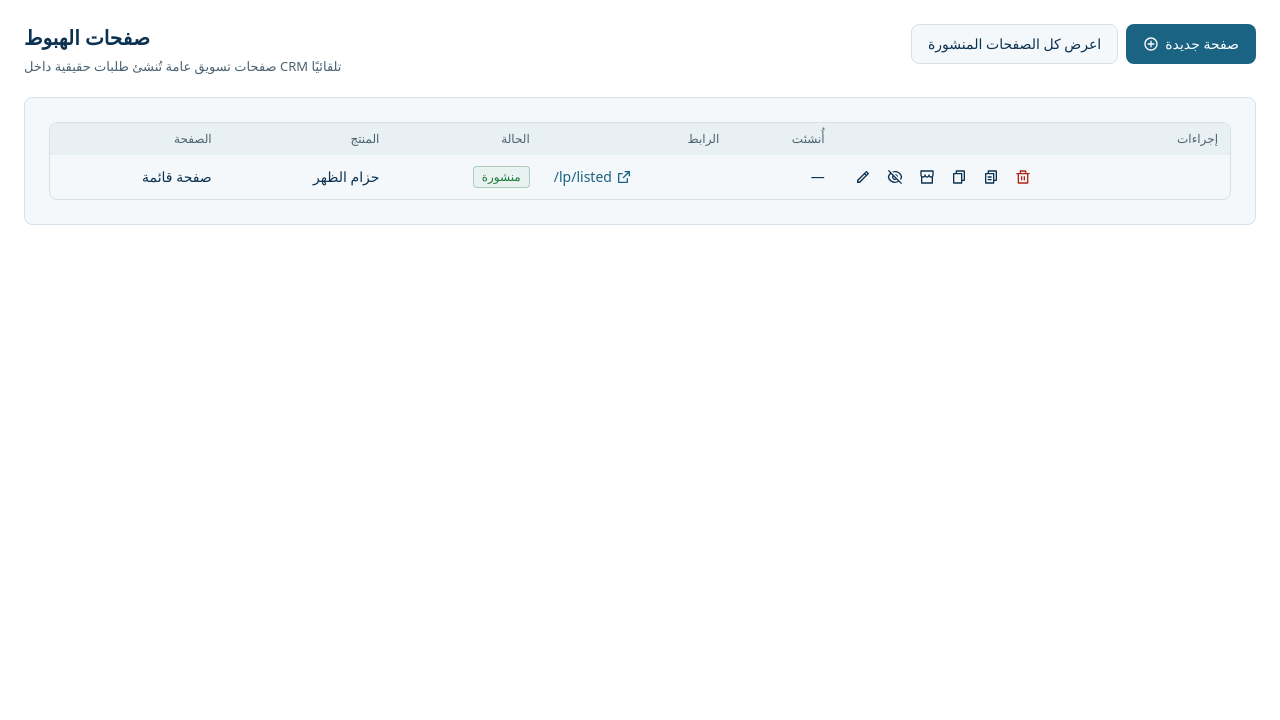
Scenario: the two starting points › are both named without opening a menu
Click the button "صفحة جديدة" at (1191, 44), box [1126, 24, 1256, 64]
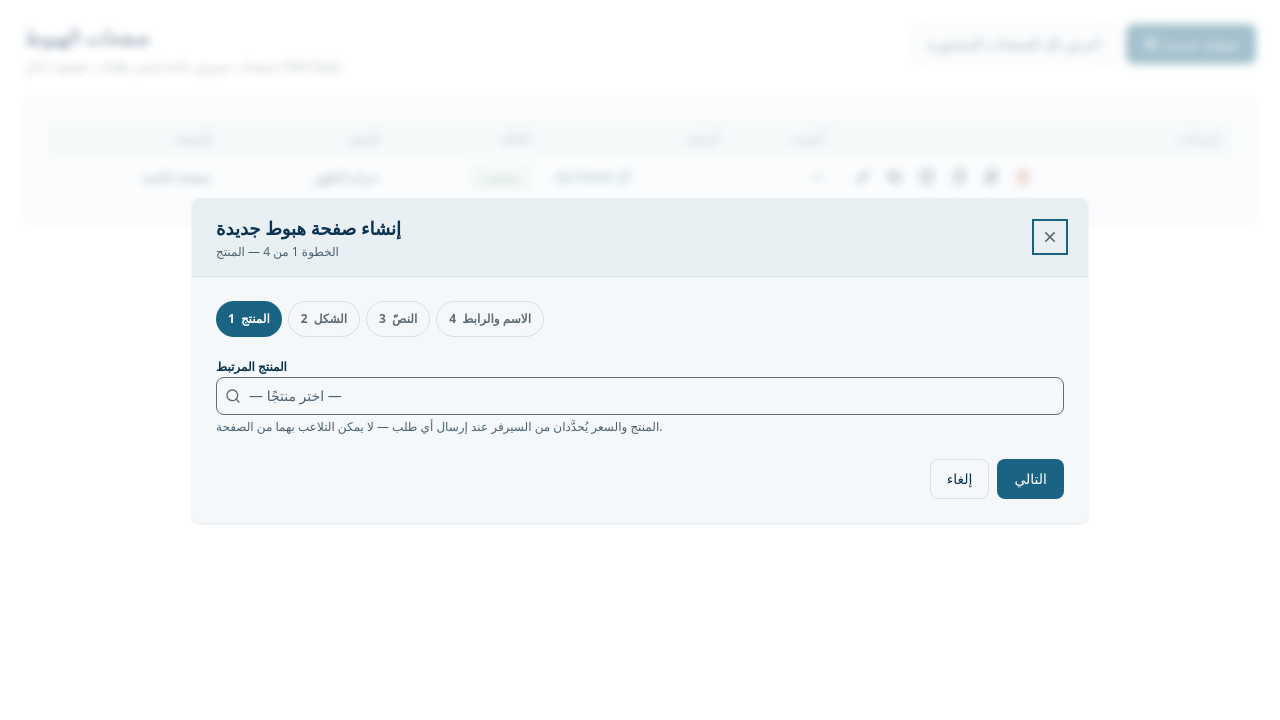
Click the button "التالي" at (1031, 478), box [997, 458, 1064, 498]
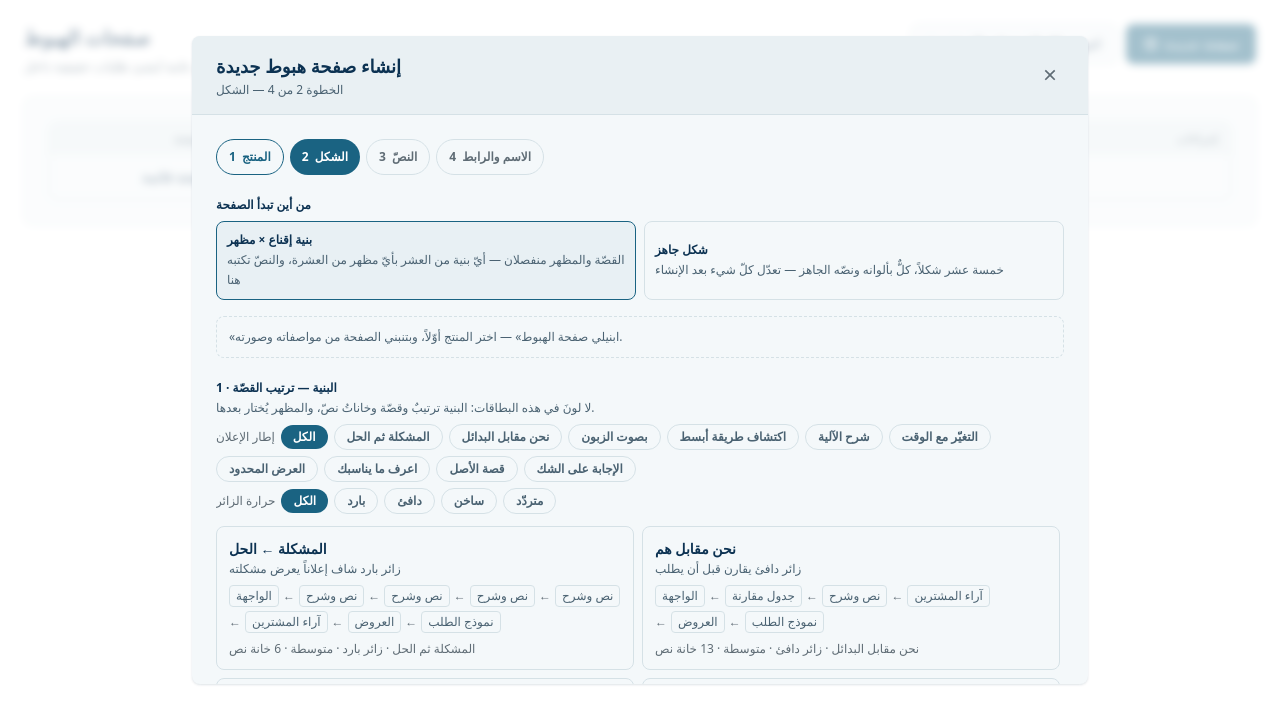
Check: the text "بنية إقناع × مظهر" is shown, box [227, 231, 312, 248]
Check: the text "شكل جاهز" is shown, box [655, 241, 708, 258]
